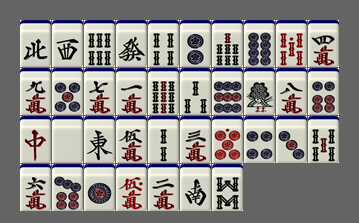0m: (116, 164, 147, 211)
0p: (212, 116, 243, 163)
0s: (276, 20, 307, 67)
1m: (116, 68, 147, 115)
1p: (84, 164, 115, 211)
1s: (244, 68, 275, 115)
1z: (84, 116, 115, 163)
2m: (148, 164, 179, 211)
2p: (180, 20, 211, 67)
2s: (148, 116, 179, 163)
2z: (180, 164, 211, 211)
3m: (180, 116, 211, 163)
3p: (276, 116, 307, 163)
3s: (180, 68, 211, 115)
3z: (52, 20, 83, 67)
4m: (308, 20, 339, 67)
4p: (244, 116, 275, 163)
4s: (148, 20, 179, 67)
4z: (20, 20, 51, 67)
5m: (116, 116, 147, 163)
5p: (52, 68, 83, 115)
5s: (308, 116, 339, 163)
5z: (52, 116, 83, 163)
6m: (20, 164, 51, 211)
6p: (308, 68, 339, 115)
6s: (84, 20, 115, 67)
6z: (116, 20, 147, 67)
7m: (84, 68, 115, 115)
7p: (52, 164, 83, 211)
7s: (212, 20, 243, 67)
7z: (20, 116, 51, 163)
8m: (276, 68, 307, 115)
8p: (244, 20, 275, 67)
8s: (212, 164, 243, 211)
9m: (20, 68, 51, 115)
9p: (212, 68, 243, 115)
9s: (148, 68, 179, 115)
